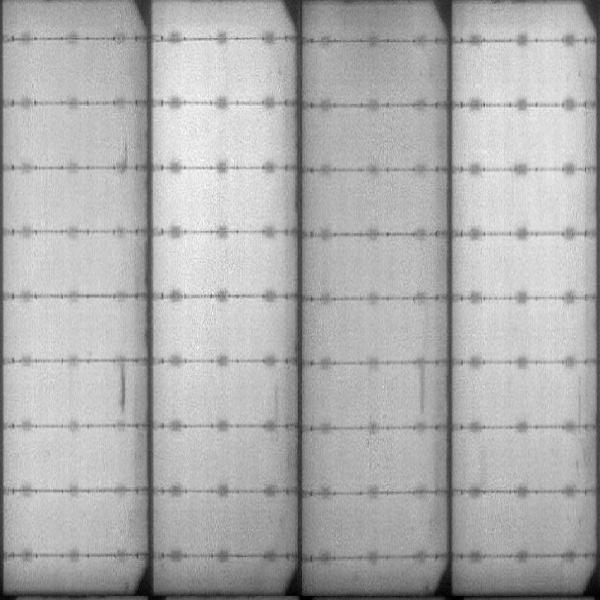scratch: (118, 365, 127, 411)
